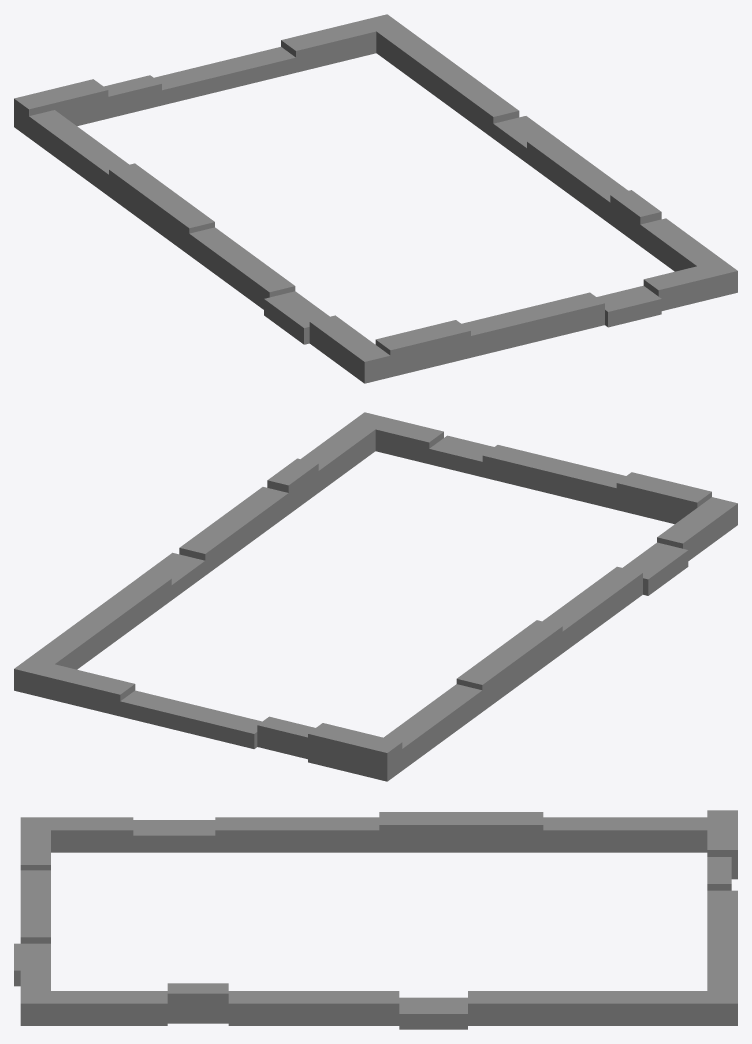
The model's file is Grave Rim.fbx.
3 renders of one model, top to bottom at view 1: azimuth 30°, elevation 25°; view 2: azimuth 150°, elevation 25°; view 3: azimuth 270°, elevation 25°, orthographic. The views are drawn at different scales.
Visible parts, largest first — view 1: Grave Rim; view 2: Grave Rim; view 3: Grave Rim.
Boxes of the visible parts, x1,y1,x2,y2 form: Grave Rim: (14,14,737,383); Grave Rim: (14,412,737,781); Grave Rim: (14,810,737,1029).
Bounding box in the file's own units: 143 × 10.41 × 228.
